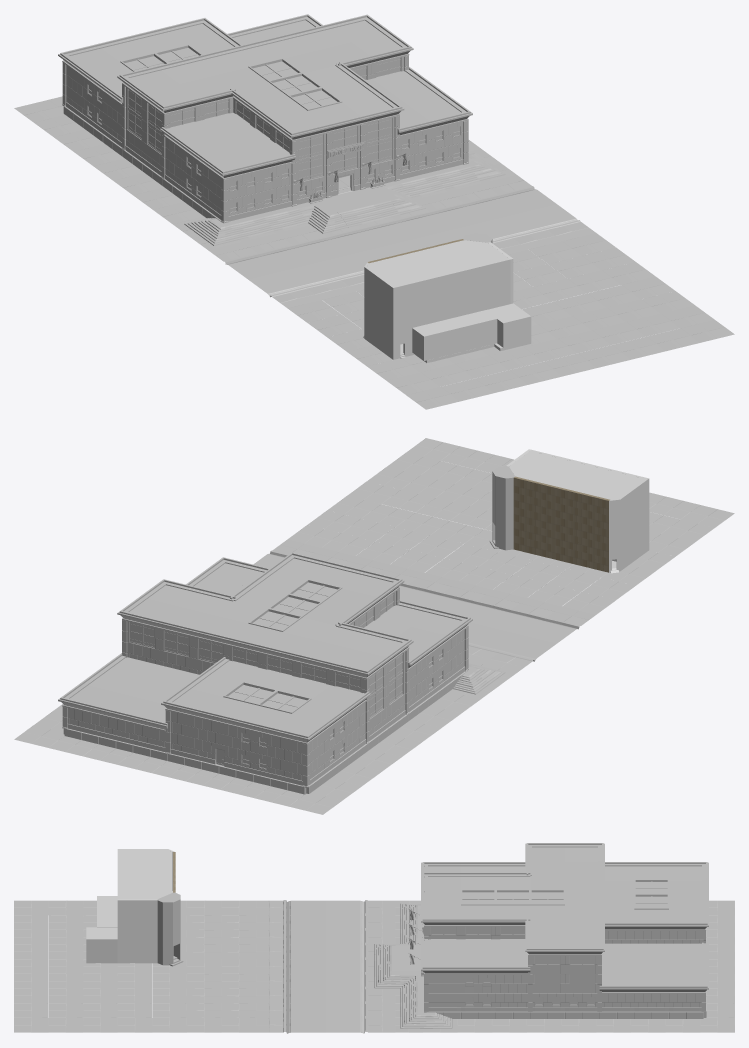
File: Main_Scene_V1.0.2.fbx
3 views of the same model, one above another, from view 1: azimuth 30°, elevation 25°; view 2: azimuth 150°, elevation 25°; view 3: azimuth 270°, elevation 25° (orthographic). The views are drawn at different scales.
Parts seen in each view (by area): view 1: SM_Env_Sidewalk_Straight_01_1751.001, Roof.001, BWTop, Right Wall, BarBack, BWLeft, SM_Env_Roof_36, SM_Env_Roof_39, SM_Env_Roof_43, SM_Env_Steps_5, BarTop, SM_Env_Roof_47 (+109 smaller); view 2: Front Wall, SM_Env_Sidewalk_Straight_01_1751.001, Roof.001, Right Wall, Top, SM_Env_Roof_813, SM_Env_Roof_03_770, SM_Env_Roof_11, SM_Env_Roof_4, SM_Env_Roof_23, SM_Env_Roof_39, SM_Env_Roof_36 (+98 smaller); view 3: SM_Env_Sidewalk_Straight_01_1751.001, Left Wall, Roof.001, Top, SM_Env_Roof_34, SM_Env_Roof_47, SM_Env_Roof_4, SM_Env_Roof_11, SM_Env_Roof_23, SM_Env_Roof_31, SM_Env_Roof_6, SM_Env_Roof_12 (+168 smaller).
Boxes of the visible parts, x1,y1,x2,y2 form: SM_Env_Sidewalk_Straight_01_1751.001: (268,218,595,308); Roof.001: (367,240,508,286); BWTop: (414,265,483,327); Right Wall: (364,266,393,358); BarBack: (427,322,496,360); BWLeft: (482,258,510,310); SM_Env_Roof_36: (268,111,330,141); SM_Env_Roof_39: (140,84,202,114); SM_Env_Roof_43: (199,149,261,179); SM_Env_Steps_5: (334,197,400,227); BarTop: (412,310,496,339); SM_Env_Roof_47: (411,96,472,129); Front Wall: (513,476,609,572); SM_Env_Sidewalk_Straight_01_1751.001: (269,539,595,629); Roof.001: (509,451,644,499); Right Wall: (618,479,647,570); Top: (492,466,514,528); SM_Env_Roof_813: (328,649,390,679); SM_Env_Roof_03_770: (269,714,331,744); SM_Env_Roof_11: (58,682,119,715); SM_Env_Roof_4: (161,685,222,718); SM_Env_Roof_23: (117,595,178,628); SM_Env_Roof_39: (351,630,413,663); SM_Env_Roof_36: (342,570,404,603); SM_Env_Sidewalk_Straight_01_1751.001: (256,900,290,1033); Left Wall: (117,899,157,963); Roof.001: (120,850,172,899); Top: (157,892,180,946); SM_Env_Roof_34: (421,903,460,926); SM_Env_Roof_47: (421,951,460,974); SM_Env_Roof_4: (669,907,708,930); SM_Env_Roof_11: (669,970,708,993); SM_Env_Roof_23: (565,932,604,955); SM_Env_Roof_31: (525,932,564,955); SM_Env_Roof_6: (634,909,668,930); SM_Env_Roof_12: (634,972,668,993).
Size of the model in its own units: 4500 by 1146 by 10395.
